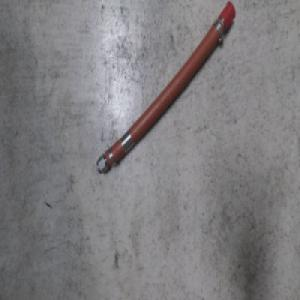Hose: (94, 0, 236, 177)
